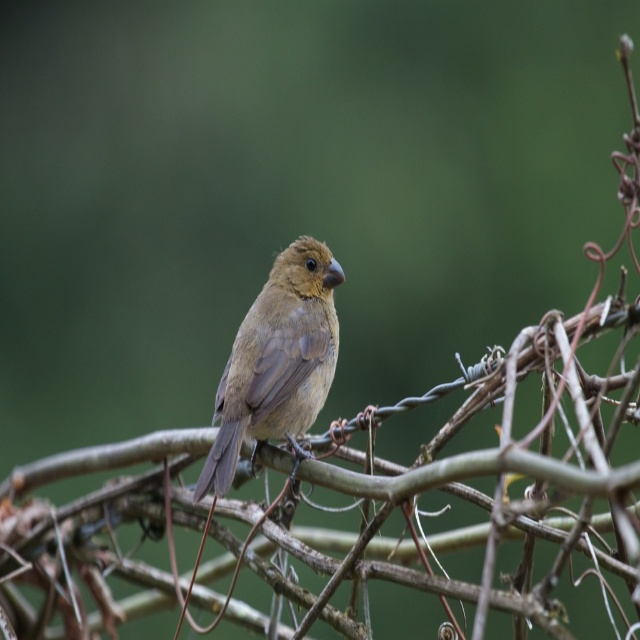Sparrow: (185, 233, 346, 521)
